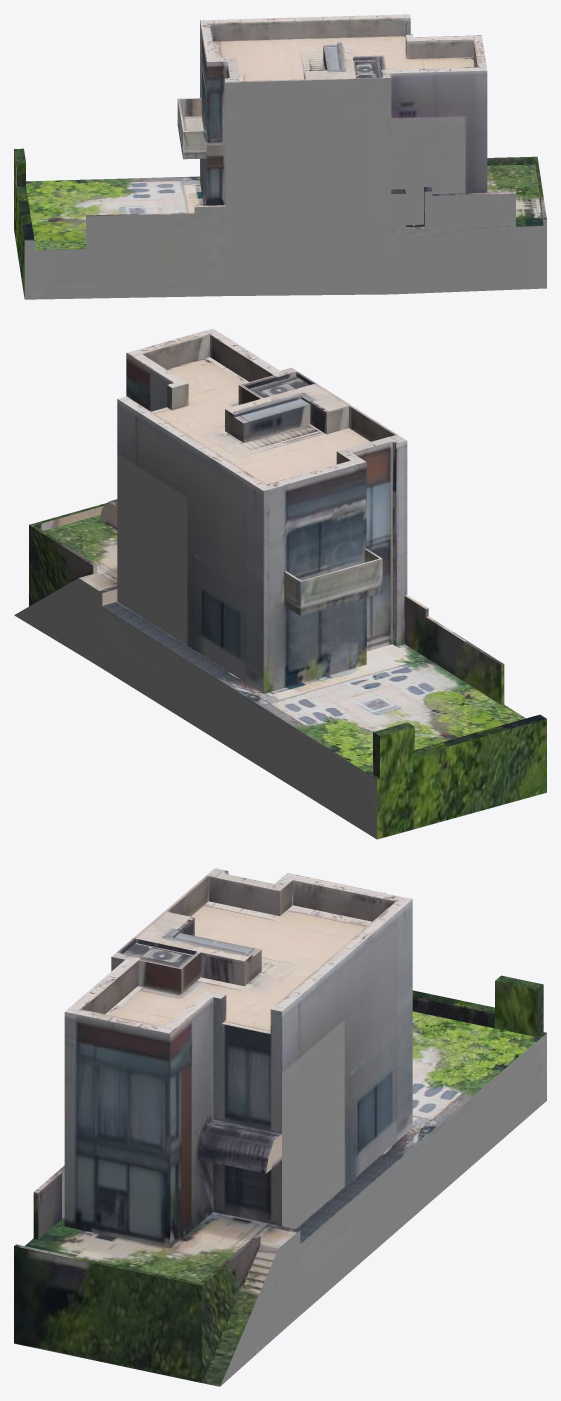
The picture shows the model from 3 angles, top to bottom: view 1: azimuth 30°, elevation 25°; view 2: azimuth 150°, elevation 25°; view 3: azimuth 270°, elevation 25°; orthographic projection. The views are drawn at different scales.
Parts seen in each view (by area): view 1: B287564033801062A0; view 2: B287564033801062A0; view 3: B287564033801062A0.
Boxes of the visible parts, x1,y1,x2,y2 form: B287564033801062A0: [14, 14, 546, 299]; B287564033801062A0: [14, 328, 546, 839]; B287564033801062A0: [14, 868, 546, 1386].
Size of the model in its own units: 27.41 by 12.08 by 19.11.
Materials: 1 (1 with a texture image).
